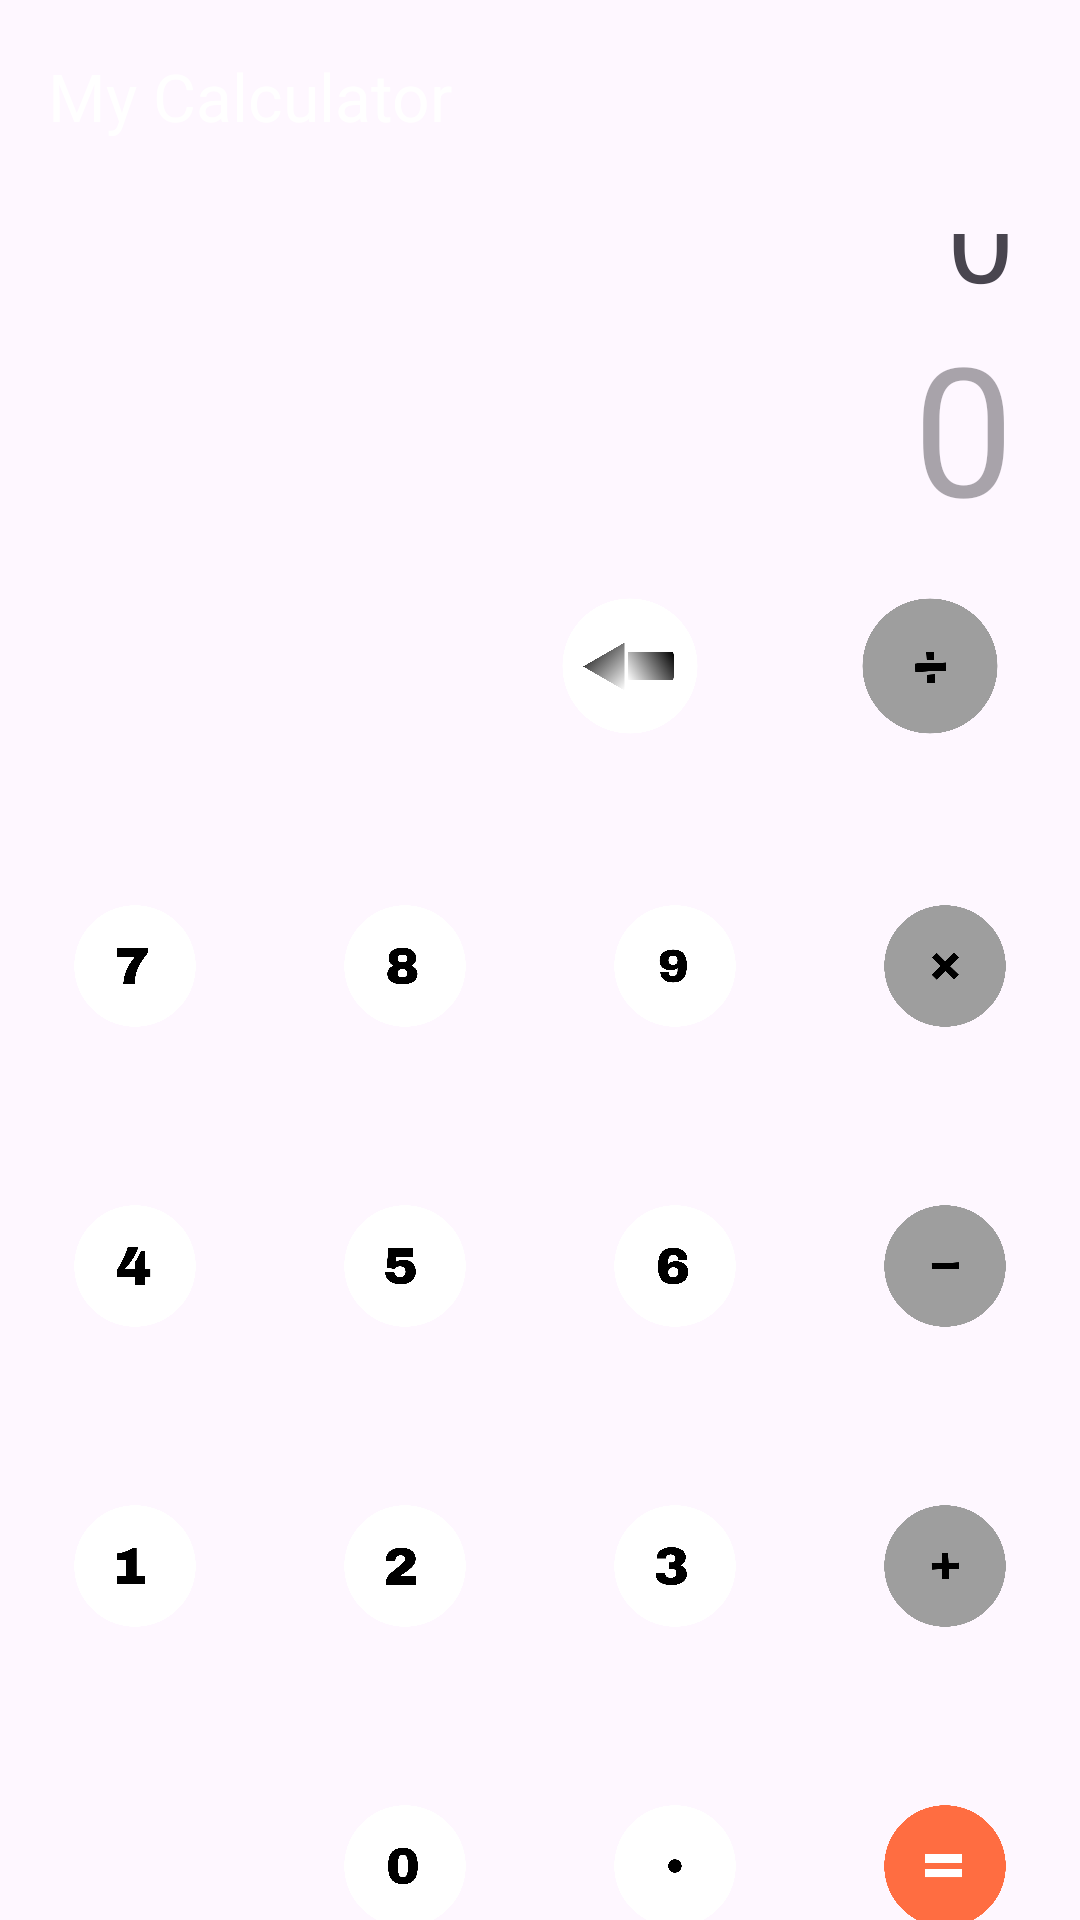

Point at icon controls on the screen. Image size 1080 × 1920, points as (x=x, y=y).
backspace: (x=628, y=665)
divide: (x=930, y=666)
multiply: (x=945, y=966)
whiteadd: (x=945, y=1566)
whitesub: (x=945, y=1266)
